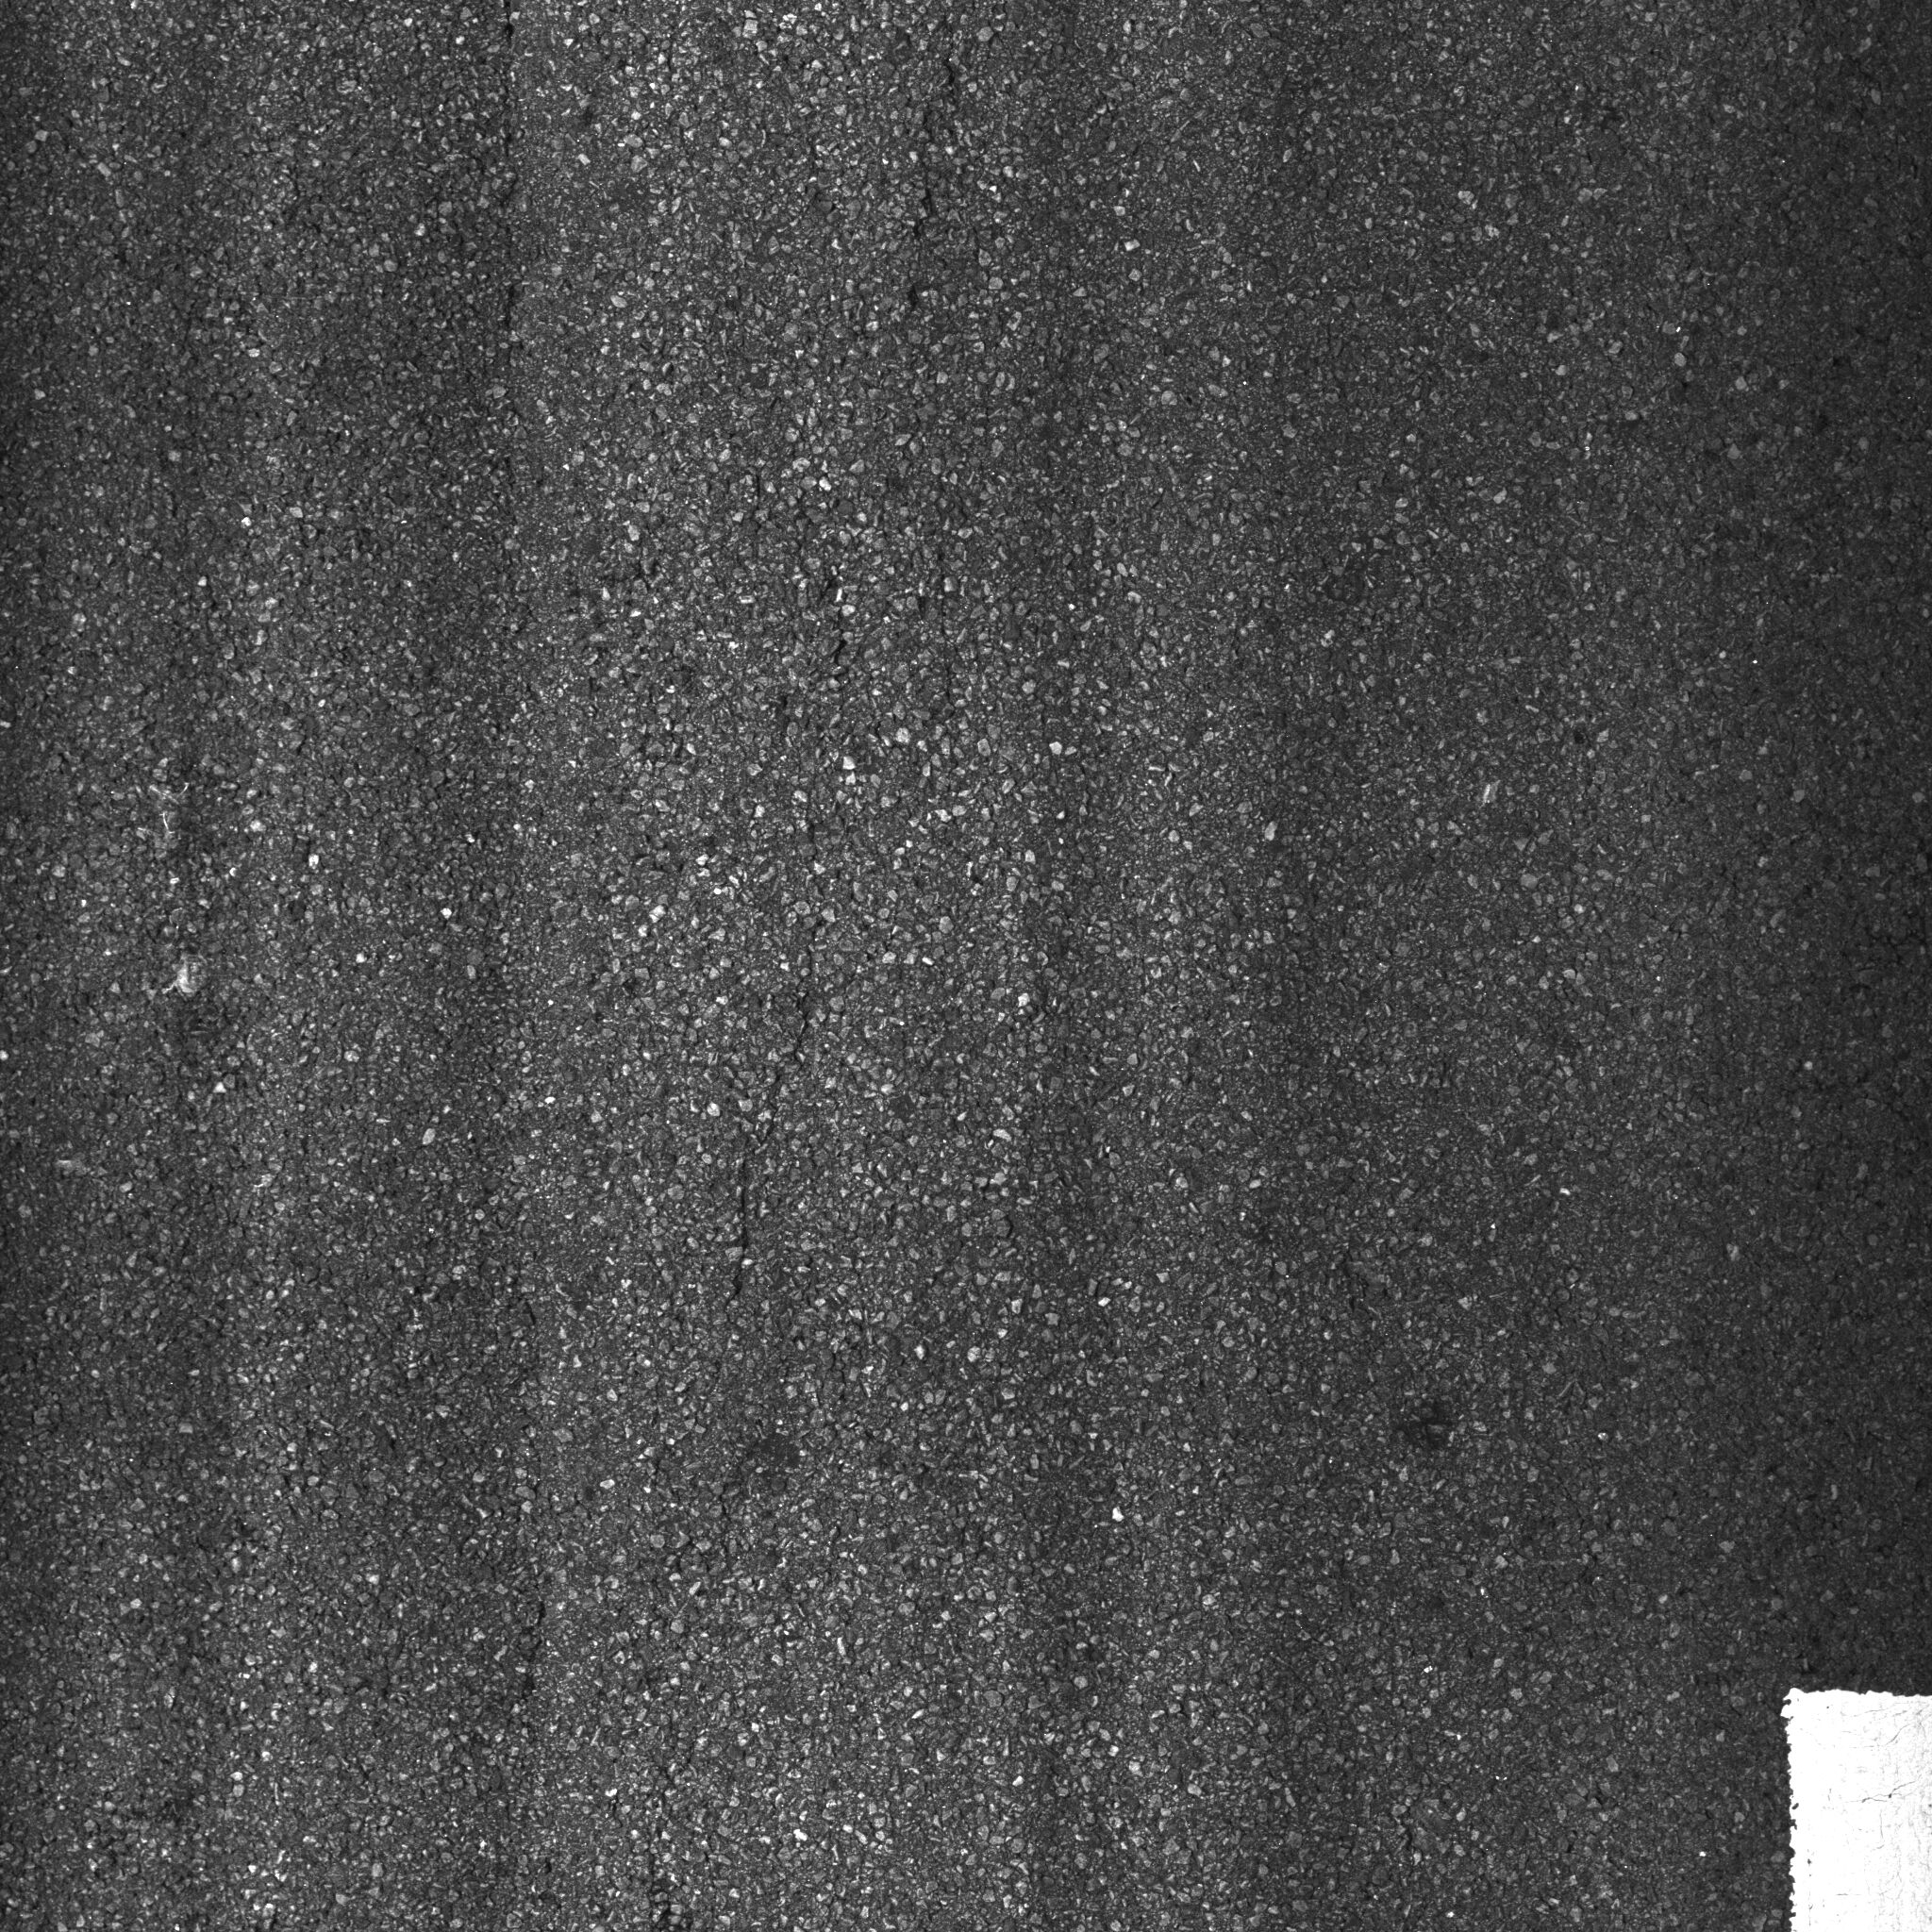longitudinal: (695, 504, 878, 1417)
